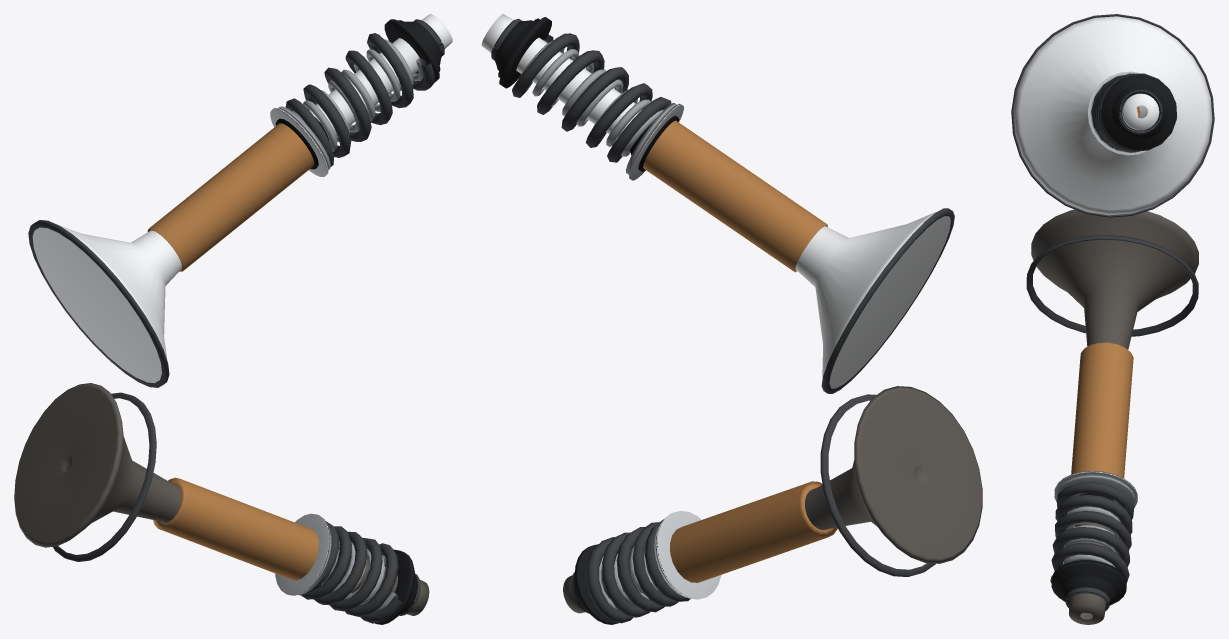
File: valve-set-3.glb
The picture shows the model from 3 angles, left to right: view 1: azimuth 30°, elevation 25°; view 2: azimuth 150°, elevation 25°; view 3: azimuth 270°, elevation 25°; orthographic projection. The views are drawn at different scales.
Parts seen in each view (by area): view 1: valve-set-3:bronze, valve-set-3:heatSteel, valve-set-3:darkSteel, valve-set-3:chrome, valve-set-3:steel, valve-set-3:satinBlack, valve-set-3:polishedSteel; view 2: valve-set-3:heatSteel, valve-set-3:bronze, valve-set-3:darkSteel, valve-set-3:chrome, valve-set-3:steel, valve-set-3:satinBlack, valve-set-3:polishedSteel; view 3: valve-set-3:chrome, valve-set-3:heatSteel, valve-set-3:darkSteel, valve-set-3:bronze, valve-set-3:satinBlack, valve-set-3:steel, valve-set-3:polishedSteel.
Part boxes in pixels (x1,y1,x2,y2): valve-set-3:bronze: (147,123,318,580); valve-set-3:heatSteel: (14,383,429,615); valve-set-3:darkSteel: (28,19,444,623); valve-set-3:chrome: (32,14,452,383); valve-set-3:steel: (278,39,423,611); valve-set-3:satinBlack: (375,19,441,624); valve-set-3:polishedSteel: (270,108,330,595); valve-set-3:heatSteel: (563,386,982,613); valve-set-3:bronze: (643,120,837,582); valve-set-3:darkSteel: (491,18,954,623); valve-set-3:chrome: (481,14,950,388); valve-set-3:steel: (519,40,686,609); valve-set-3:satinBlack: (494,17,618,624); valve-set-3:polishedSteel: (629,103,721,599); valve-set-3:chrome: (1013,16,1212,215); valve-set-3:heatSteel: (1031,209,1198,624); valve-set-3:darkSteel: (1011,14,1214,610); valve-set-3:bronze: (1071,106,1140,478); valve-set-3:satinBlack: (1051,74,1176,613); valve-set-3:steel: (1056,74,1138,567); valve-set-3:polishedSteel: (1054,71,1150,508).
Size of the model in its own units: 119 by 150 by 49.49.
